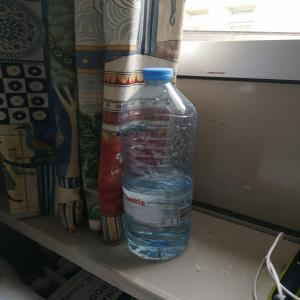Plastic-bottle: (119, 68, 200, 263)
